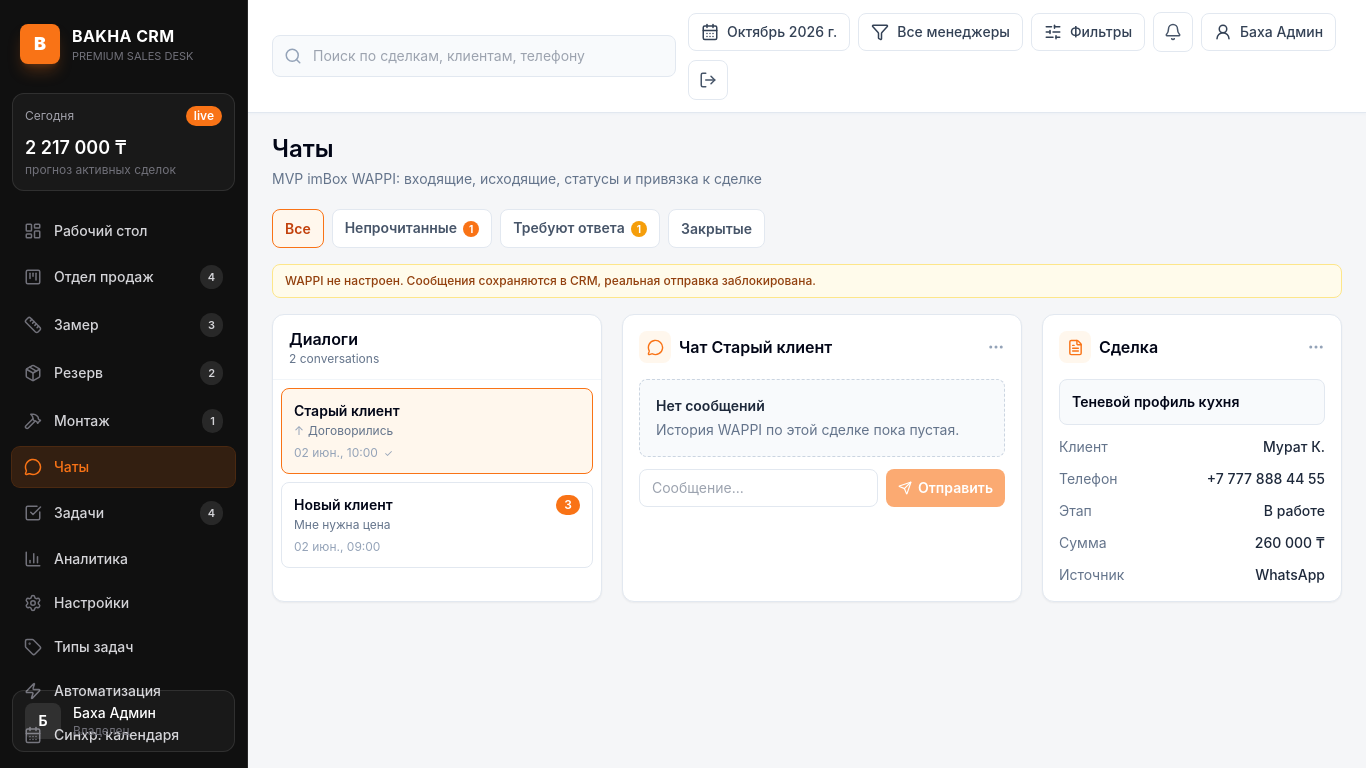
Scenario: Bakha CRM smoke › unread filter shows only conversations with unread count > 0
Expected: the heading "Чаты" is shown, [272,134,334,163]
Expected: the text "Новый клиент" is shown, [294,496,393,513]
# Click "Непрочитанные"
Click the button "Непрочитанные1" at (412, 228), box [332,209,492,248]
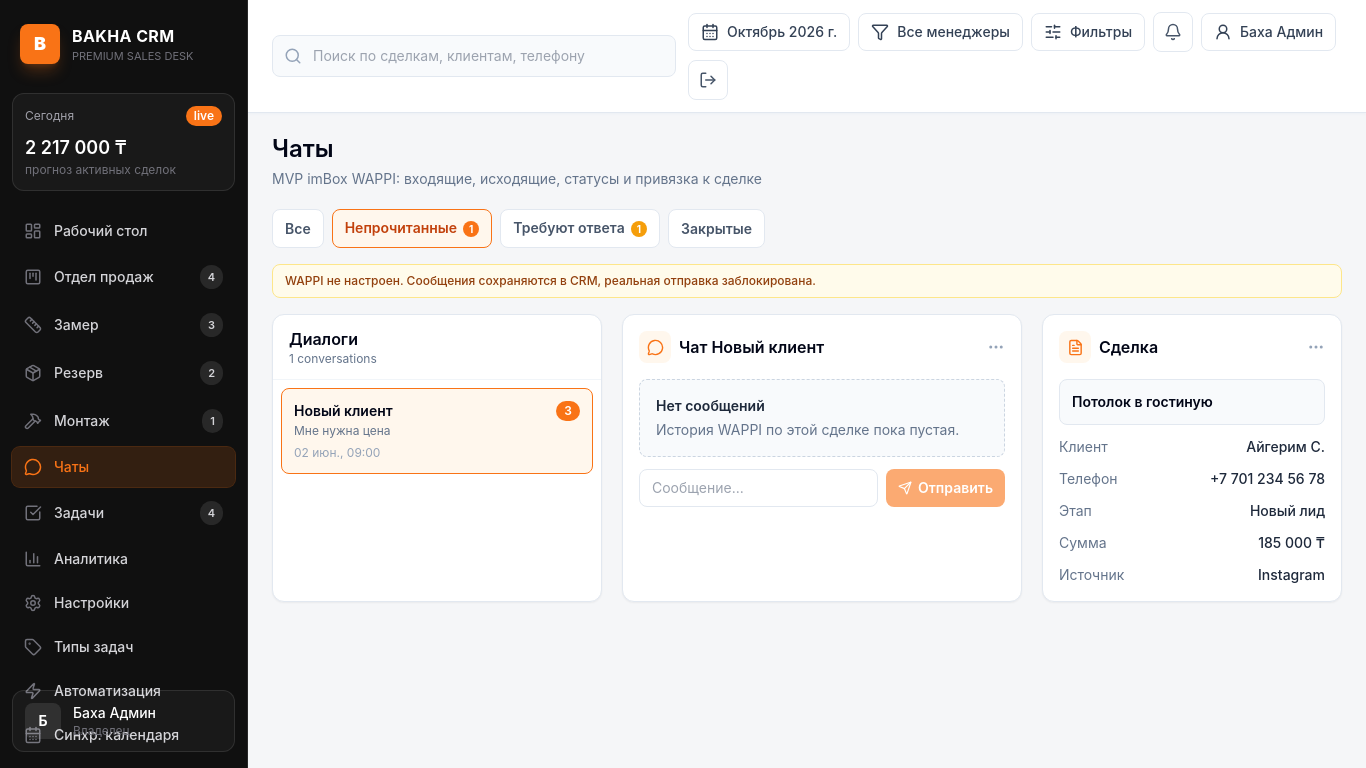
Expected: the text "Новый клиент" is shown, [294,402,393,419]
Now the button "Старый клиент" is gone
